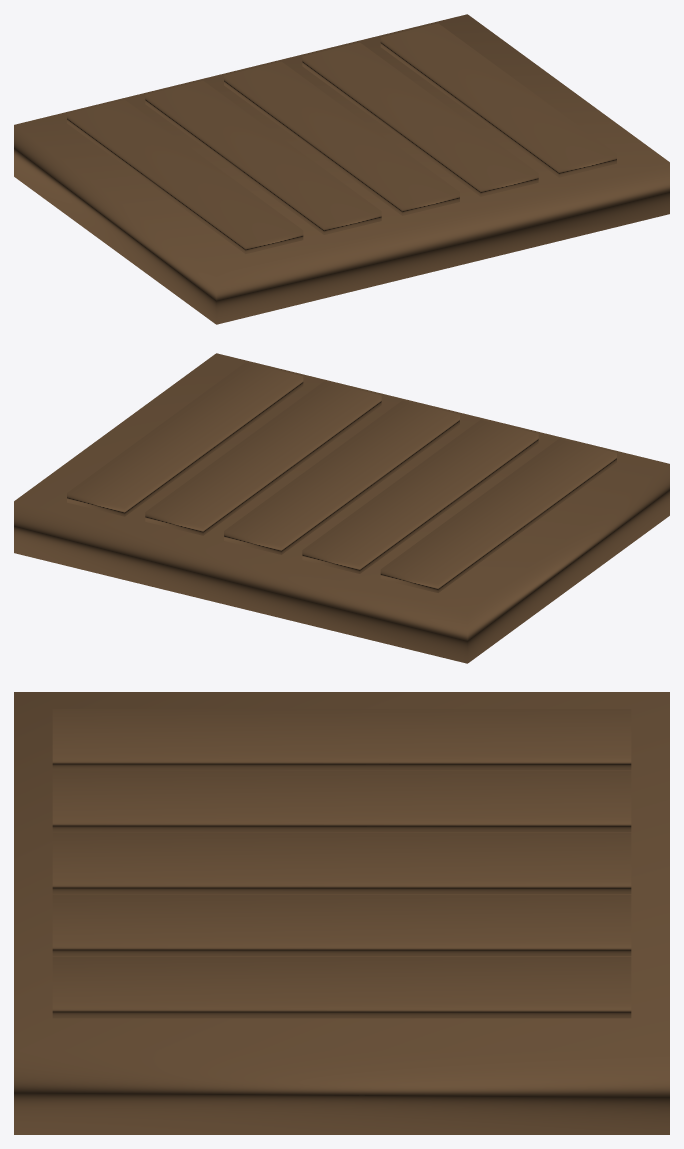
File: farm_plot.obj
3 renders of one model, top to bottom at view 1: azimuth 30°, elevation 25°; view 2: azimuth 150°, elevation 25°; view 3: azimuth 270°, elevation 25°, orthographic. The views are drawn at different scales.
Bounding box in the file's own units: 4.4 × 0.57 × 3.4.
